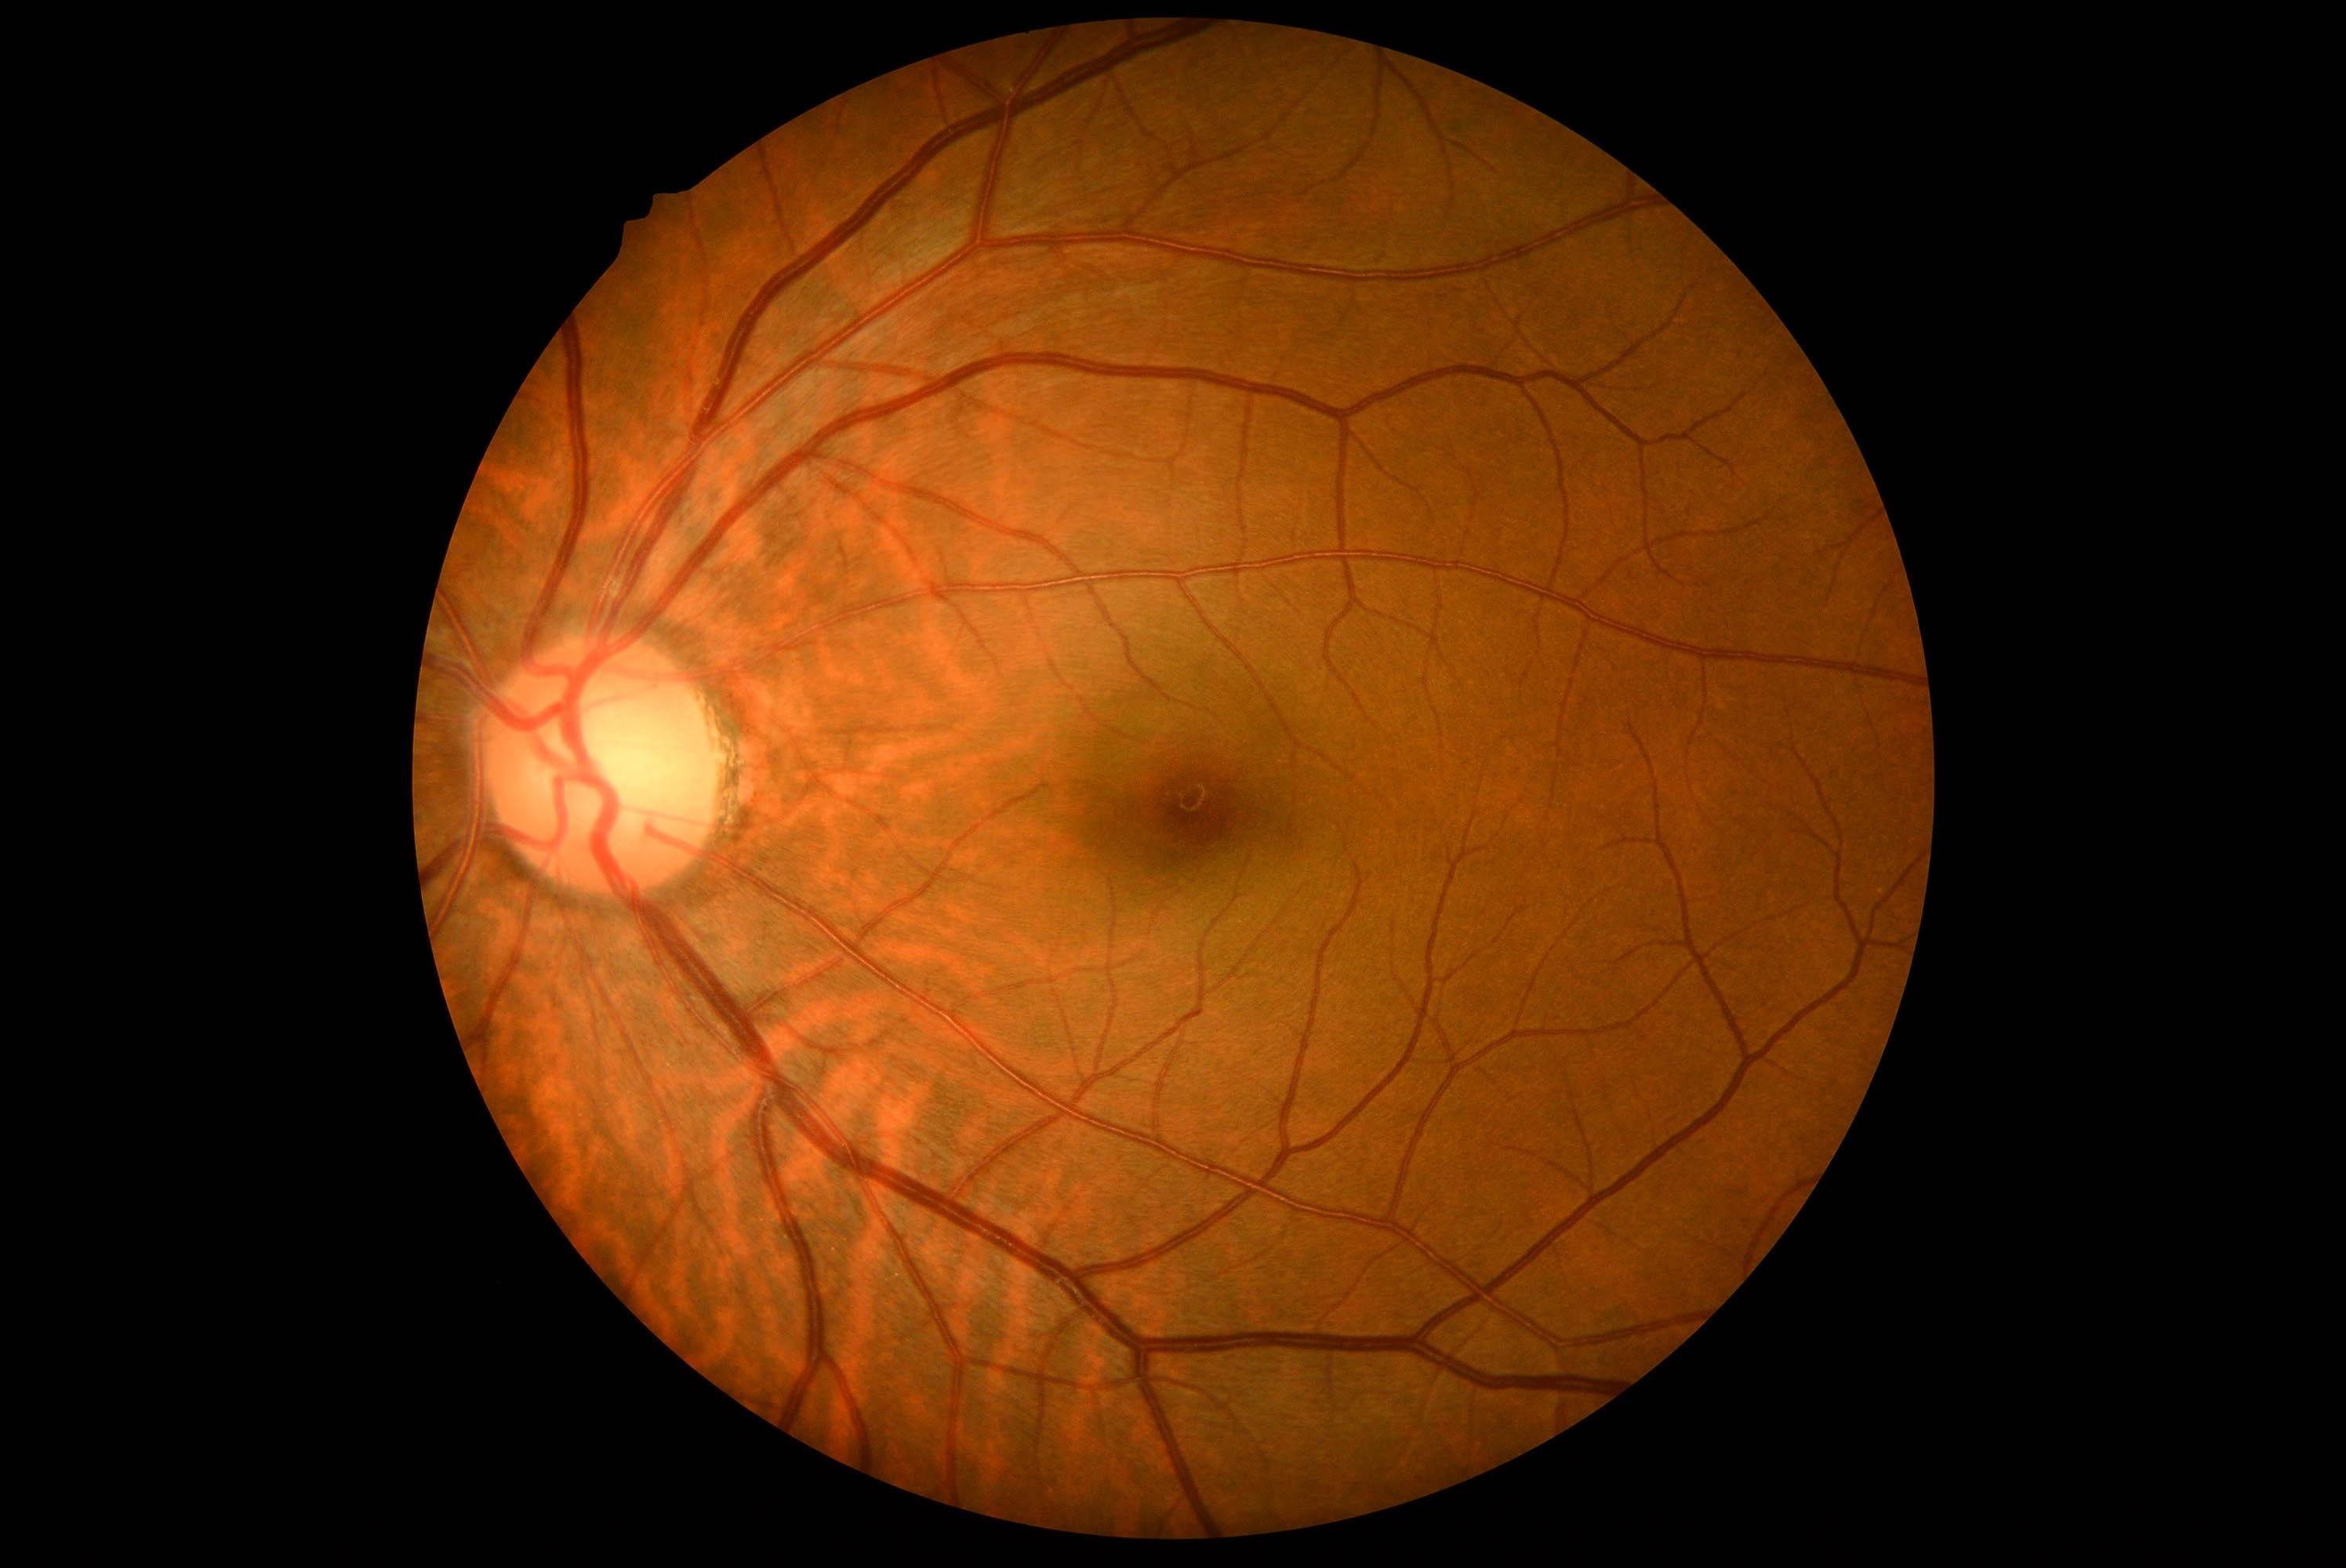Fovea: (1113, 716, 1275, 878)
